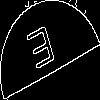E: (25, 24, 60, 80)
